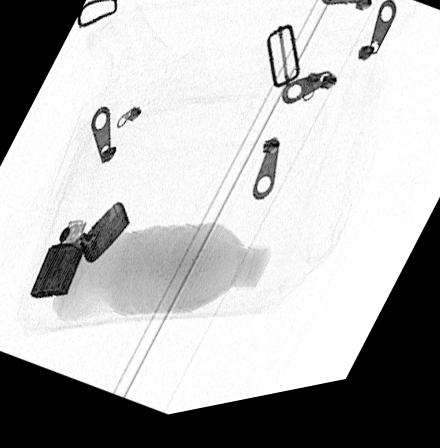Lighter: (29, 206, 131, 300)
